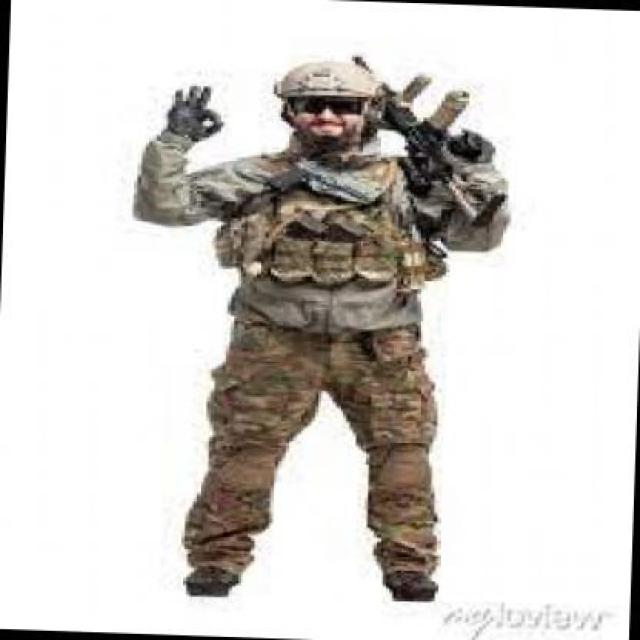MIL_Pax: (119, 52, 518, 605)
